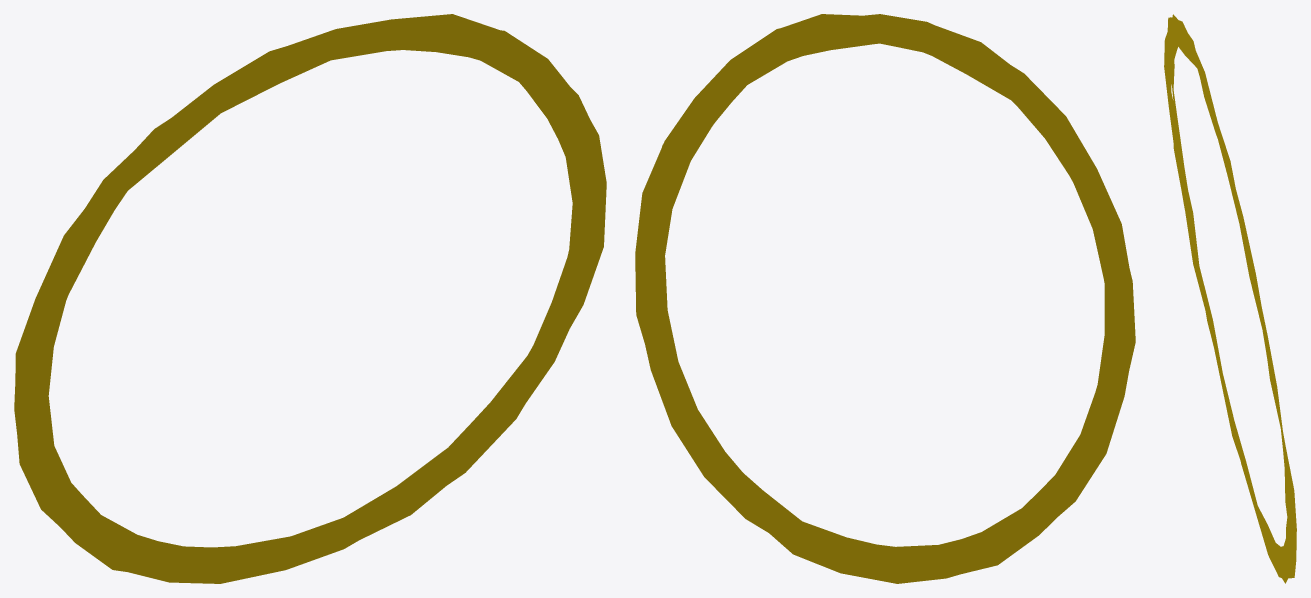
Rendered from original_14.obj.
The picture shows the model from 3 angles, left to right: view 1: azimuth 30°, elevation 25°; view 2: azimuth 150°, elevation 25°; view 3: azimuth 270°, elevation 25°; orthographic projection. The views are drawn at different scales.
Visible parts, largest first — view 1: #ID77; view 2: #ID77; view 3: #ID77.
Part boxes in pixels (<box>): #ID77: <box>14,14,606,583</box>; #ID77: <box>635,14,1135,583</box>; #ID77: <box>1164,14,1296,583</box>.
Size of the model in its own units: 0.0285 by 0.0278 by 0.00654.
